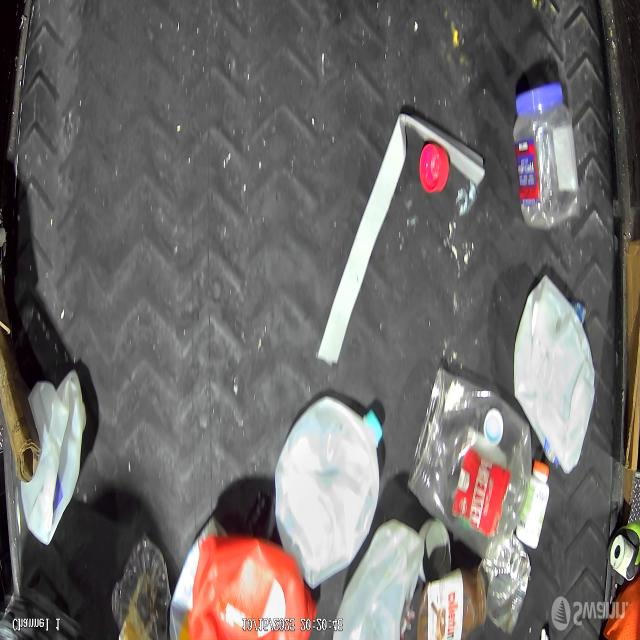can: (480, 533, 531, 636), (418, 517, 451, 586)
milk_jug: (274, 396, 384, 589), (513, 274, 596, 474), (19, 369, 88, 546), (332, 518, 425, 640)
non_white_jug: (187, 535, 317, 640)
